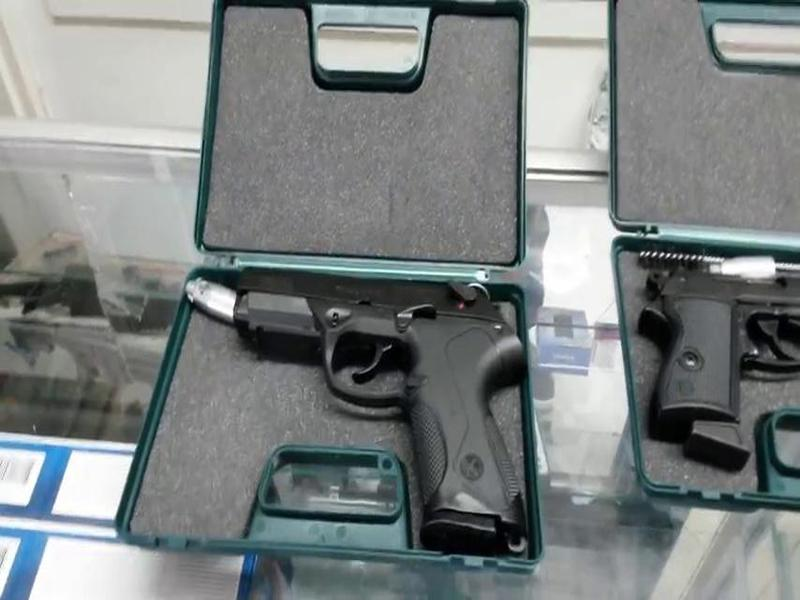Pistola: (225, 278, 551, 557)
